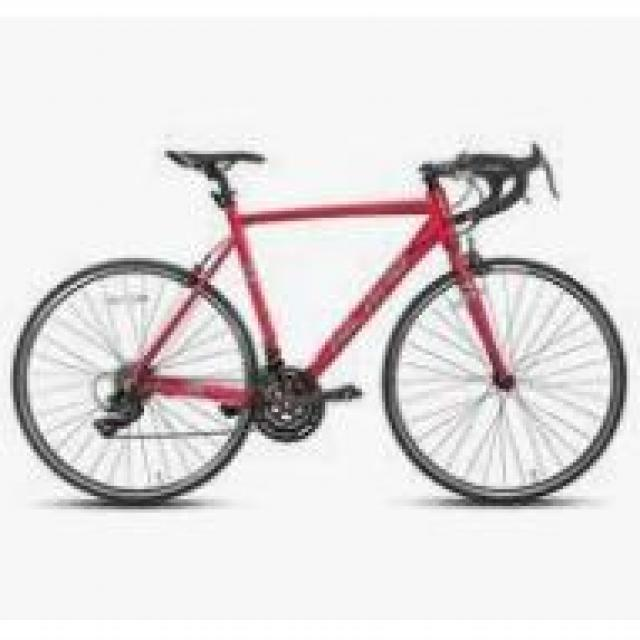bicycle: (18, 129, 621, 501)
